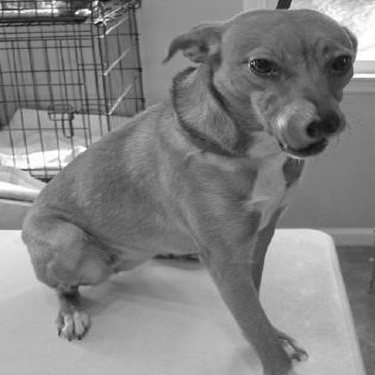dog: (17, 6, 360, 373)
